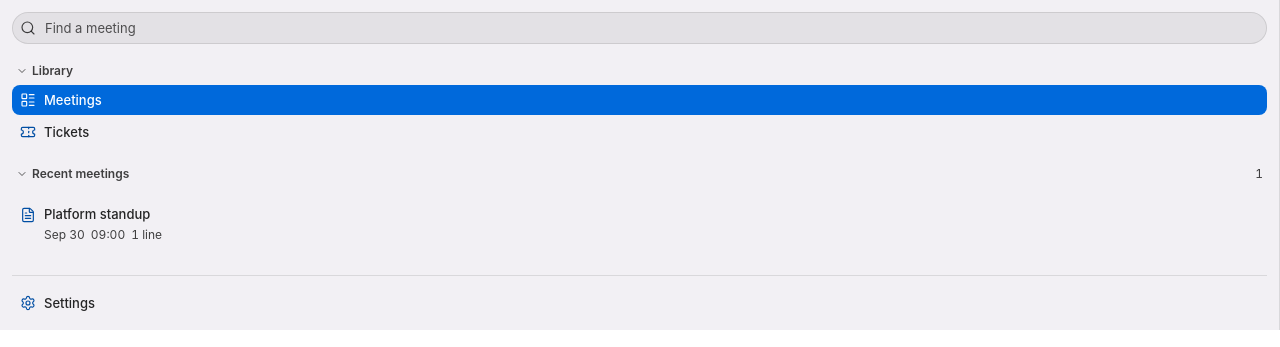
it: Sidebar (TUR-102) › a group heading folds its rows shut and opens them again
Click the button "Recent meetings 1". click: [81, 174]
box: [12, 163, 1267, 185]
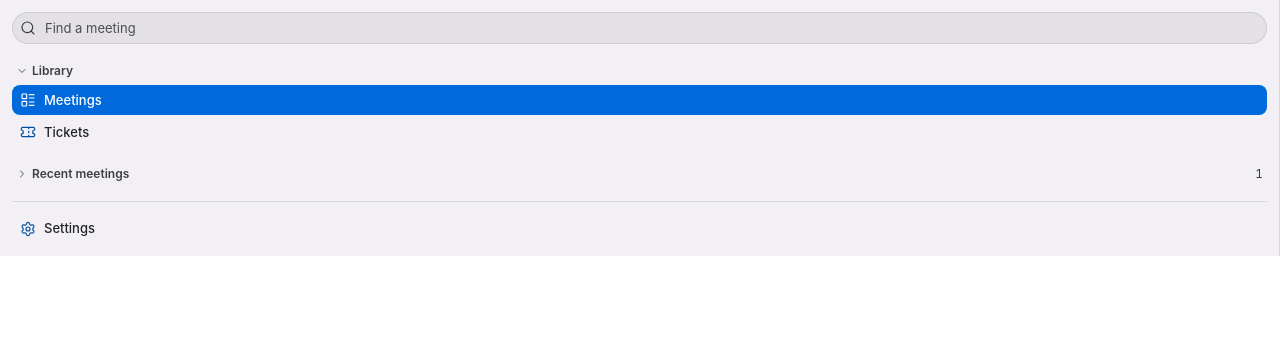
Expected: the button "Recent meetings 1" is collapsed
Expected: the button "Platform standup" is gone
Click the button "Recent meetings 1". click: [81, 174]
box: [12, 163, 1267, 185]
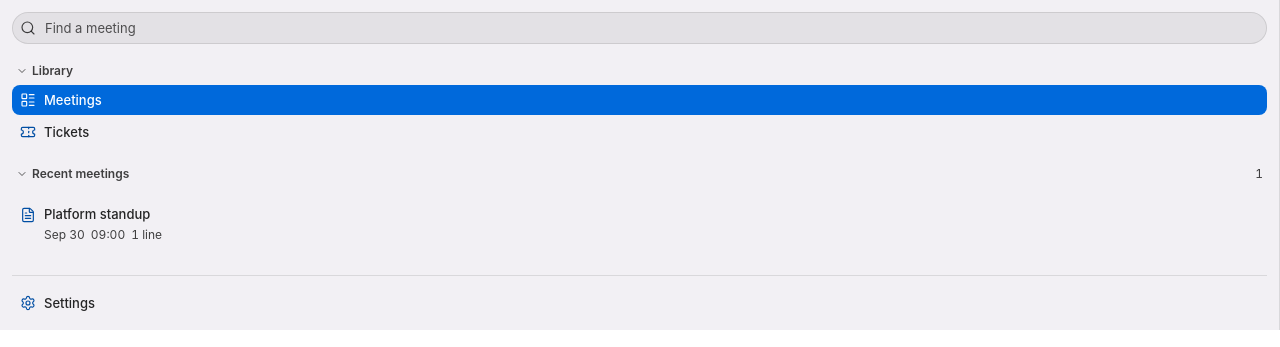
Expected: the text "Platform standup" is shown, [44, 206, 150, 222]
